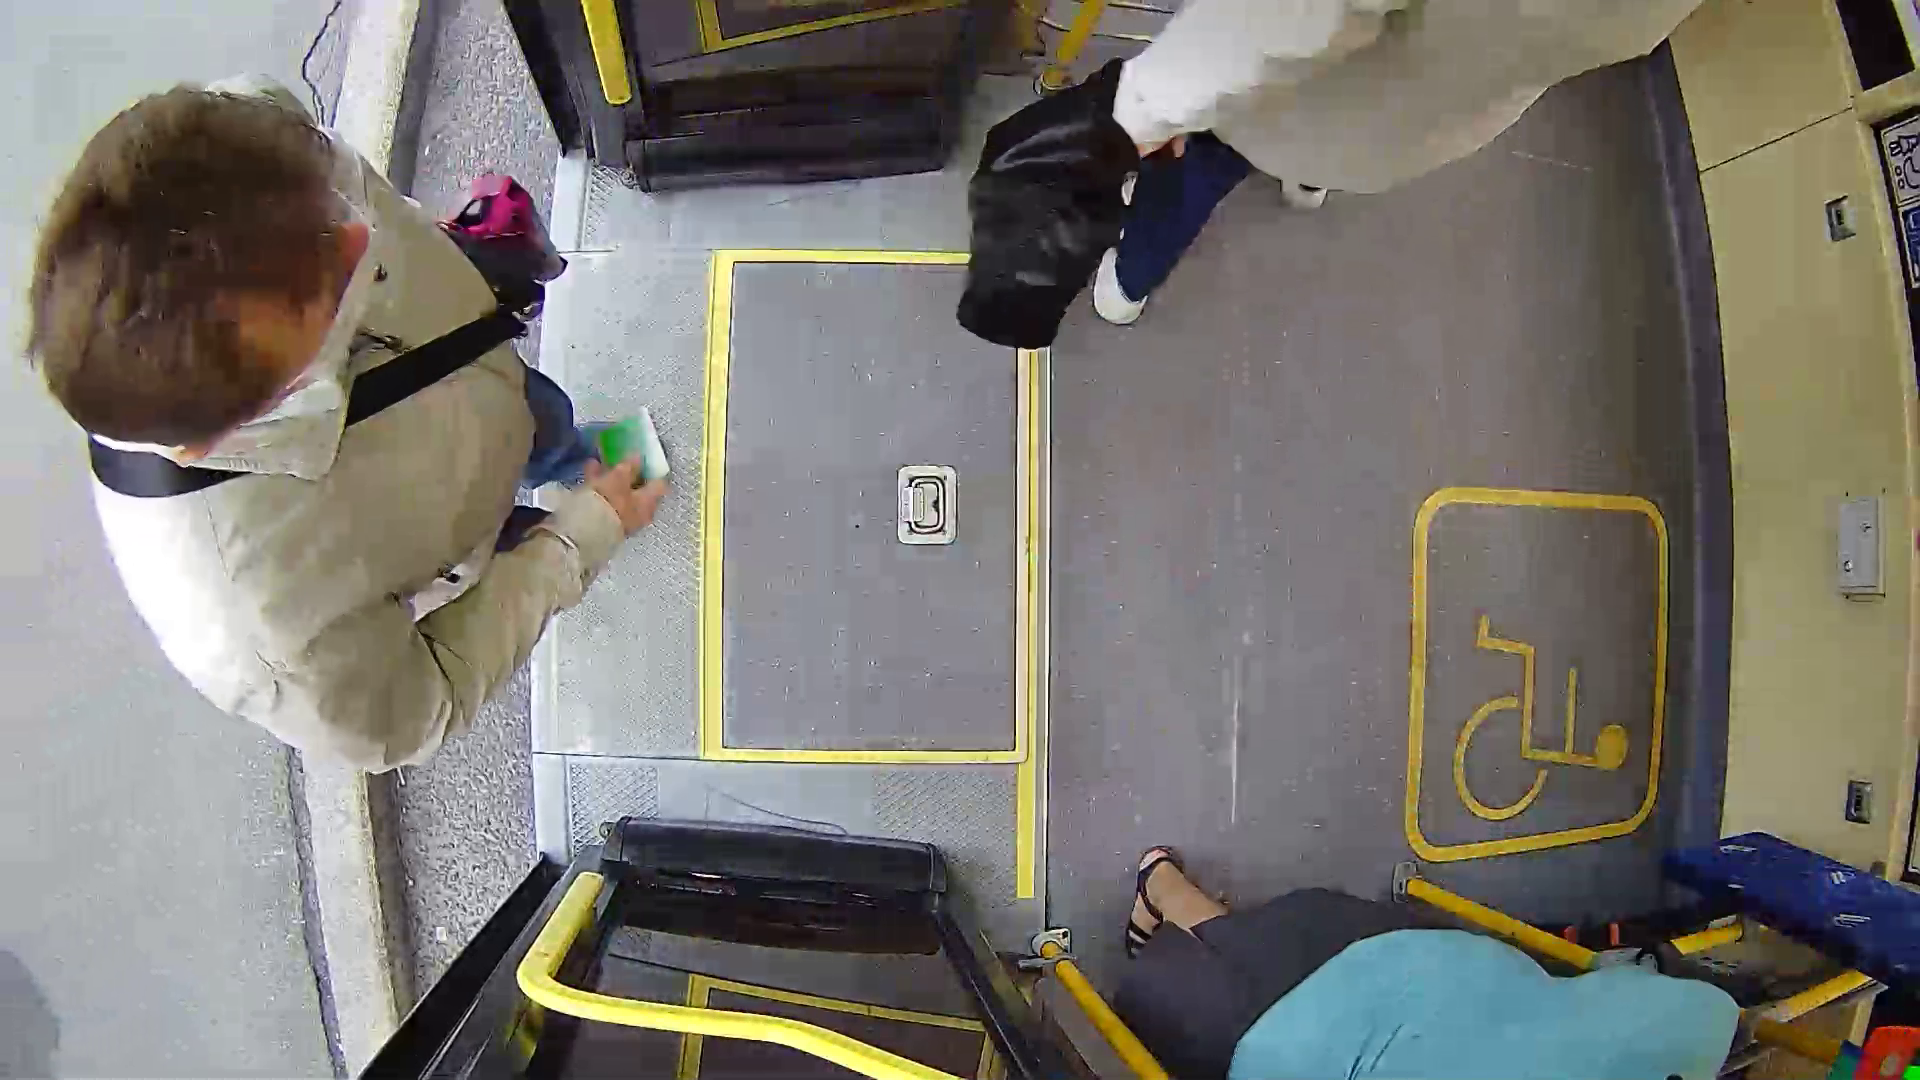person: (21, 64, 795, 770)
